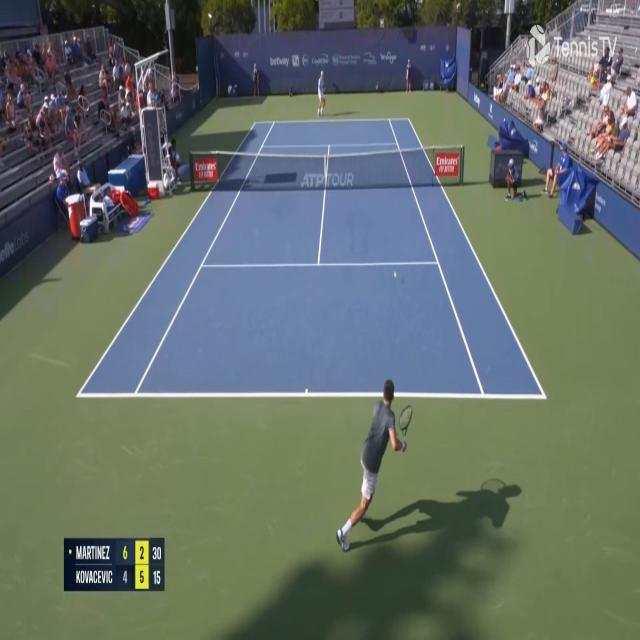tennis-player: (335, 374, 412, 556), (316, 68, 326, 118)
